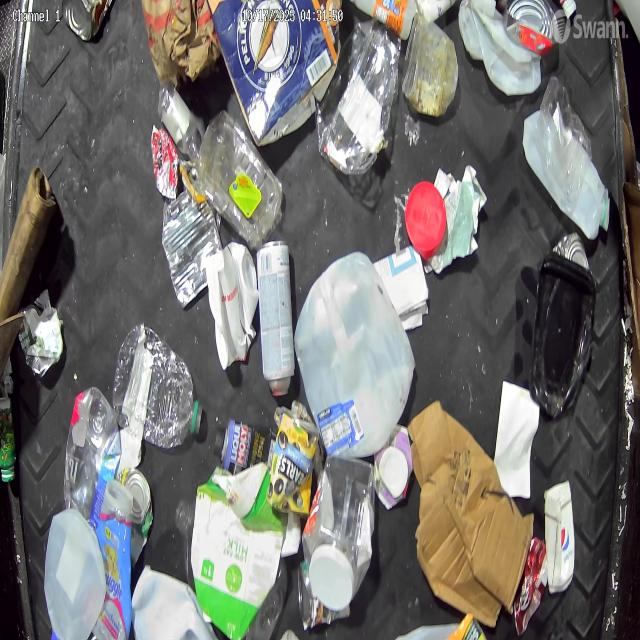can: (162, 189, 225, 308), (115, 466, 152, 528), (62, 0, 112, 41)
milk_jug: (295, 250, 415, 453), (522, 105, 607, 237), (458, 0, 546, 96), (45, 508, 106, 639), (130, 565, 218, 640)
plastic_bottle: (114, 323, 201, 448)
